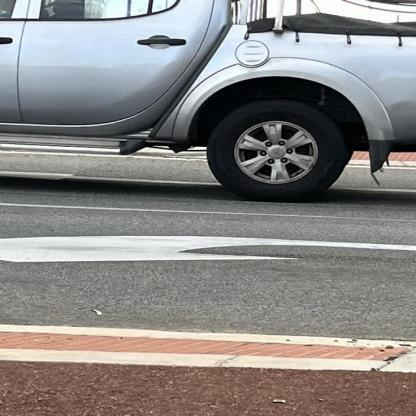Tire: (160, 80, 347, 202)
